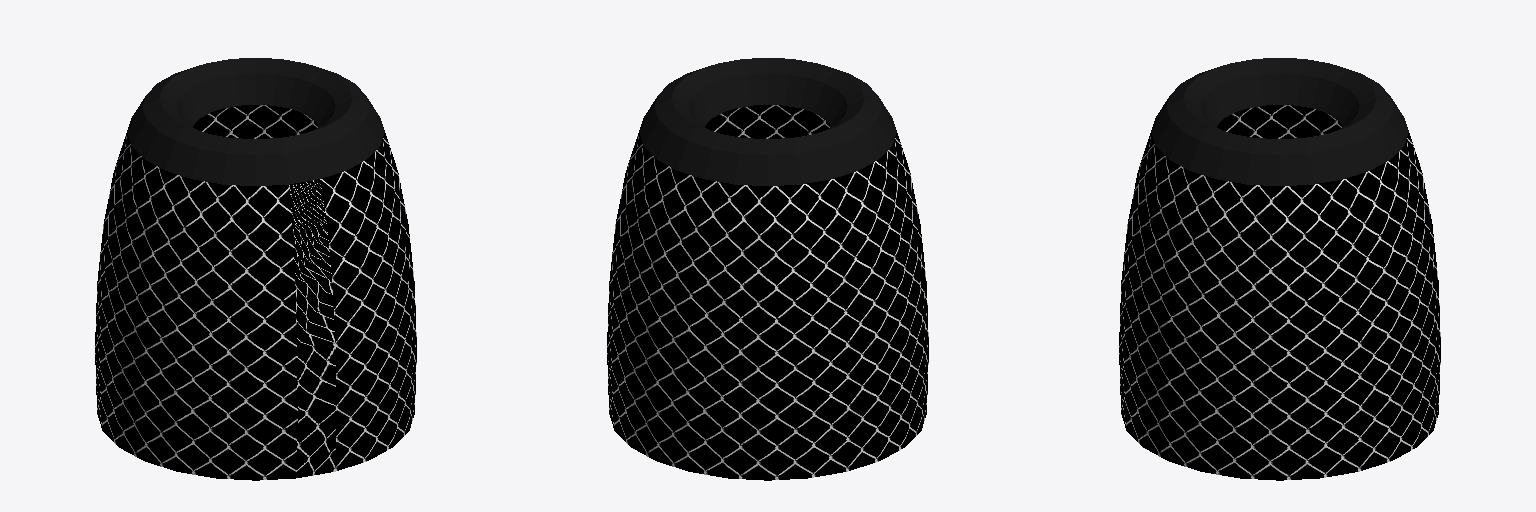
3 renders of one model, left to right at view 1: azimuth 30°, elevation 25°; view 2: azimuth 150°, elevation 25°; view 3: azimuth 270°, elevation 25°, orthographic.
Parts seen in each view (by area): view 1: Torus, Torus_Detached; view 2: Torus, Torus_Detached; view 3: Torus, Torus_Detached.
Part boxes in pixels (x1,y1,x2,y2): Torus: (95, 105, 416, 480); Torus_Detached: (127, 58, 384, 185); Torus: (607, 105, 928, 480); Torus_Detached: (639, 58, 896, 185); Torus: (1119, 105, 1440, 480); Torus_Detached: (1151, 58, 1408, 185).
Size of the model in its own units: 1 by 1.08 by 1.
2 materials, 1 textured.